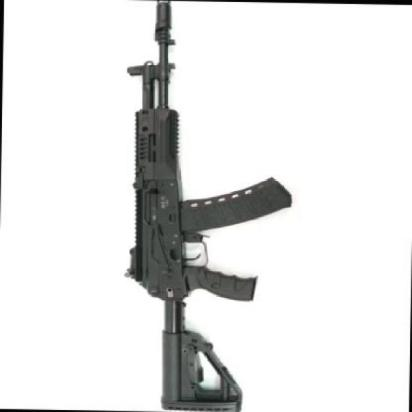Gun: (122, 0, 294, 412)
